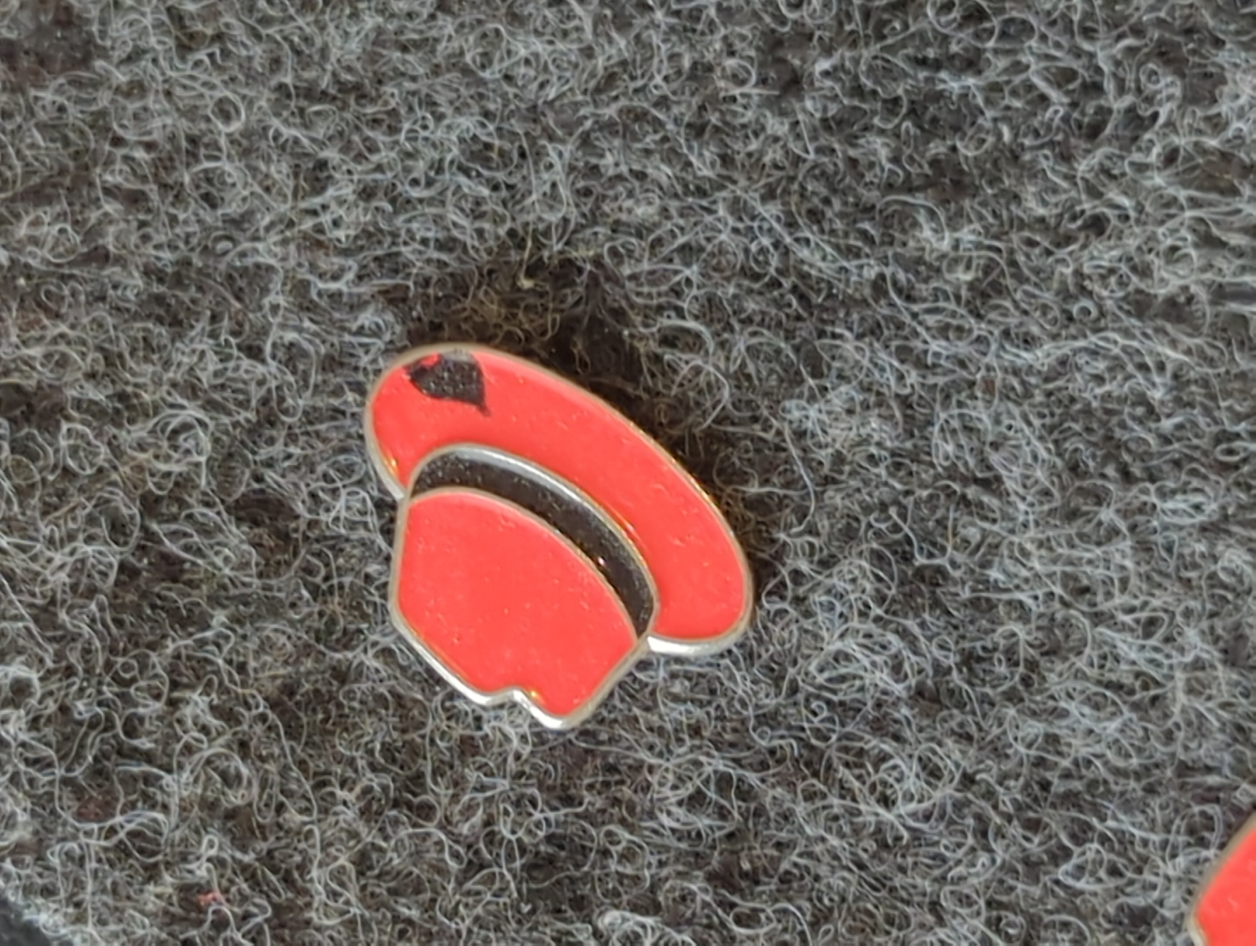Red-Hat: (258, 247, 939, 798)
Scratch: (361, 321, 551, 443)
